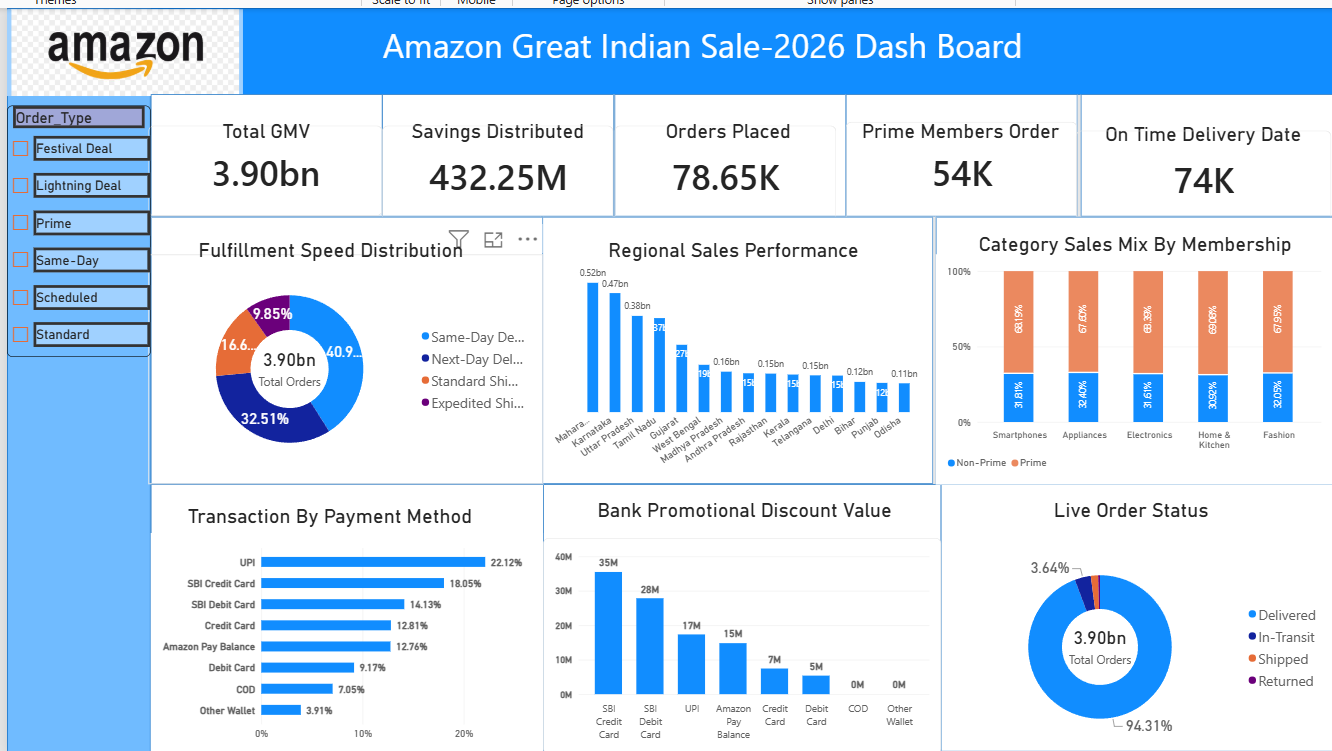

The page's visual inventory and layout, read from the dashboard file:
{"tool":"powerbi","page":{"name":"Page 1","canvas":[1920,1080],"ordinal":0},"visuals":[{"type":"shape","box":[0,0,1920.4,1080.6],"z":0},{"type":"shape","box":[207.9,125.6,1712.5,955.1],"z":1000},{"type":"shape","box":[0,0,207.9,1080.6],"z":2000},{"type":"textbox","box":[388,19.7,1239.6,88.7],"z":3000},{"type":"image","box":[0,1.4,341.7,125.6],"z":4000},{"type":"shape","box":[207.9,125.6,335.5,177],"z":5000},{"type":"cardVisual","fields":{"Data":["Sum(MASTER_DATA.Gross Order Value)"]},"box":[203.8,170.8,339.6,131.7],"z":6000},{"type":"textbox","box":[218.2,160.5,312.9,53.5],"z":7000},{"type":"shape","box":[1554,125.6,366.4,177],"z":8000},{"type":"shape","box":[543.4,125.6,335.5,177],"z":9000},{"type":"shape","box":[878.9,125.6,335.5,177],"z":10000},{"type":"shape","box":[1214.4,125.6,335.5,177],"z":11000},{"type":"textbox","box":[543.4,160.5,335.5,53.5],"z":12000},{"type":"cardVisual","fields":{"Data":["Sum(MASTER_DATA.Total Savings)"]},"box":[543.4,170.8,335.5,142],"z":13000},{"type":"cardVisual","fields":{"Data":["Count(MASTER_DATA.Order_ID)"]},"box":[878.9,170.8,321.1,144.1],"z":14000},{"type":"textbox","box":[893.3,160.5,300.5,45.3],"z":15000},{"type":"cardVisual","fields":{"Data":["Sum(MASTER_DATA.Prime Order Flag)"]},"box":[1214.4,164.7,335.5,144.1],"z":16000},{"type":"textbox","box":[1210.3,160.5,339.6,55.6],"z":17000},{"type":"textbox","box":[1574.6,164.7,314.9,49.4],"z":18000},{"type":"cardVisual","fields":{"Data":["Sum(MASTER_DATA.On Time Flag)"]},"box":[1547.9,177,370.5,137.9],"z":19000},{"type":"shape","box":[771.9,302.6,568.1,387],"z":20000},{"type":"shape","box":[207.9,302.6,568.1,387],"z":21000},{"type":"shape","box":[207.9,689.5,572.2,391.1],"z":22000},{"type":"shape","box":[1344.1,302.6,576.3,387],"z":23000},{"type":"shape","box":[776,689.5,576.3,387],"z":24000},{"type":"shape","box":[1352.3,689.5,568.1,387],"z":25000},{"type":"donutChart","fields":{"Category":["MASTER_DATA.Delivery_Speed"],"Y":["Sum(MASTER_DATA.Order Count)"]},"box":[203.8,356.1,572.2,333.4],"z":26000},{"type":"textbox","box":[189.4,333.4,557.8,45.3],"z":27000},{"type":"textbox","box":[794.5,333.4,514.6,45.3],"z":28000},{"type":"clusteredColumnChart","fields":{"Category":["MASTER_DATA.State"],"Y":["Sum(MASTER_DATA.Net Order Value)"]},"box":[776,343.7,559.9,345.8],"z":29000},{"type":"hundredPercentStackedColumnChart","fields":{"Category":["MASTER_DATA.Category"],"Series":["MASTER_DATA.Membership_Type"],"Y":["Sum(MASTER_DATA.Gross Order Value)"]},"box":[1344.1,356.1,574.3,333.4],"z":30000},{"type":"textbox","box":[1370.8,323.2,522.8,41.2],"z":31000},{"type":"clusteredBarChart","fields":{"Category":["MASTER_DATA.Payment_Type"],"Y":["Sum(MASTER_DATA.Order Count)"]},"box":[207.9,759.5,568.1,317],"z":32000},{"type":"textbox","box":[247,718.4,442.5,41.2],"z":33000},{"type":"clusteredColumnChart","fields":{"Y":["Sum(MASTER_DATA.Bank_Discount)"],"Category":["MASTER_DATA.Payment_Type"]},"box":[776,767.8,576.3,312.9],"z":34000},{"type":"textbox","box":[827.4,710.1,481.6,49.4],"z":35000},{"type":"donutChart","fields":{"Category":["MASTER_DATA.Order_Status"],"Y":["Sum(MASTER_DATA.Order Count)"]},"box":[1353.6,770.9,566.4,309.5],"z":36000},{"type":"textbox","box":[1383.2,710.1,489.9,41.2],"z":37000},{"type":"slicer","fields":{"Values":["MASTER_DATA.Order_Type"]},"box":[0,142,207.9,364.3],"z":38000}]}

Visuals, with their boxes on the page's 1920x1080 design canvas (x1, y1, x2, y2). These are canvas units, not pixel positions in the 1332x751 screenshot, which may show the page scaled, cropped or inside an application window:
shape: left=0, top=0, right=1920, bottom=1081
shape: left=208, top=126, right=1920, bottom=1081
shape: left=0, top=0, right=208, bottom=1081
textbox: left=388, top=20, right=1628, bottom=108
image: left=0, top=1, right=342, bottom=127
shape: left=208, top=126, right=543, bottom=303
cardVisual - Sum(MASTER_DATA.Gross Order Value): left=204, top=171, right=543, bottom=302
textbox: left=218, top=160, right=531, bottom=214
shape: left=1554, top=126, right=1920, bottom=303
shape: left=543, top=126, right=879, bottom=303
shape: left=879, top=126, right=1214, bottom=303
shape: left=1214, top=126, right=1550, bottom=303
textbox: left=543, top=160, right=879, bottom=214
cardVisual - Sum(MASTER_DATA.Total Savings): left=543, top=171, right=879, bottom=313
cardVisual - Count(MASTER_DATA.Order_ID): left=879, top=171, right=1200, bottom=315
textbox: left=893, top=160, right=1194, bottom=206
cardVisual - Sum(MASTER_DATA.Prime Order Flag): left=1214, top=165, right=1550, bottom=309
textbox: left=1210, top=160, right=1550, bottom=216
textbox: left=1575, top=165, right=1890, bottom=214
cardVisual - Sum(MASTER_DATA.On Time Flag): left=1548, top=177, right=1918, bottom=315
shape: left=772, top=303, right=1340, bottom=690
shape: left=208, top=303, right=776, bottom=690
shape: left=208, top=690, right=780, bottom=1081
shape: left=1344, top=303, right=1920, bottom=690
shape: left=776, top=690, right=1352, bottom=1076
shape: left=1352, top=690, right=1920, bottom=1076
donutChart - MASTER_DATA.Delivery_Speed x Sum(MASTER_DATA.Order Count): left=204, top=356, right=776, bottom=690
textbox: left=189, top=333, right=747, bottom=379
textbox: left=794, top=333, right=1309, bottom=379
clusteredColumnChart - MASTER_DATA.State x Sum(MASTER_DATA.Net Order Value): left=776, top=344, right=1336, bottom=690
hundredPercentStackedColumnChart - MASTER_DATA.Category x MASTER_DATA.Membership_Type: left=1344, top=356, right=1918, bottom=690
textbox: left=1371, top=323, right=1894, bottom=364
clusteredBarChart - MASTER_DATA.Payment_Type x Sum(MASTER_DATA.Order Count): left=208, top=760, right=776, bottom=1076
textbox: left=247, top=718, right=690, bottom=760
clusteredColumnChart - Sum(MASTER_DATA.Bank_Discount) x MASTER_DATA.Payment_Type: left=776, top=768, right=1352, bottom=1081
textbox: left=827, top=710, right=1309, bottom=760
donutChart - MASTER_DATA.Order_Status x Sum(MASTER_DATA.Order Count): left=1354, top=771, right=1920, bottom=1080
textbox: left=1383, top=710, right=1873, bottom=751
slicer - MASTER_DATA.Order_Type: left=0, top=142, right=208, bottom=506
